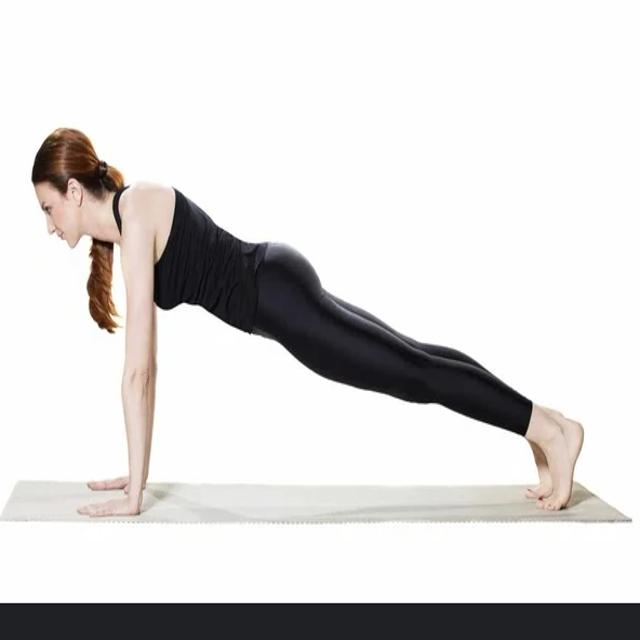Plank_Pose: (19, 117, 592, 526)
